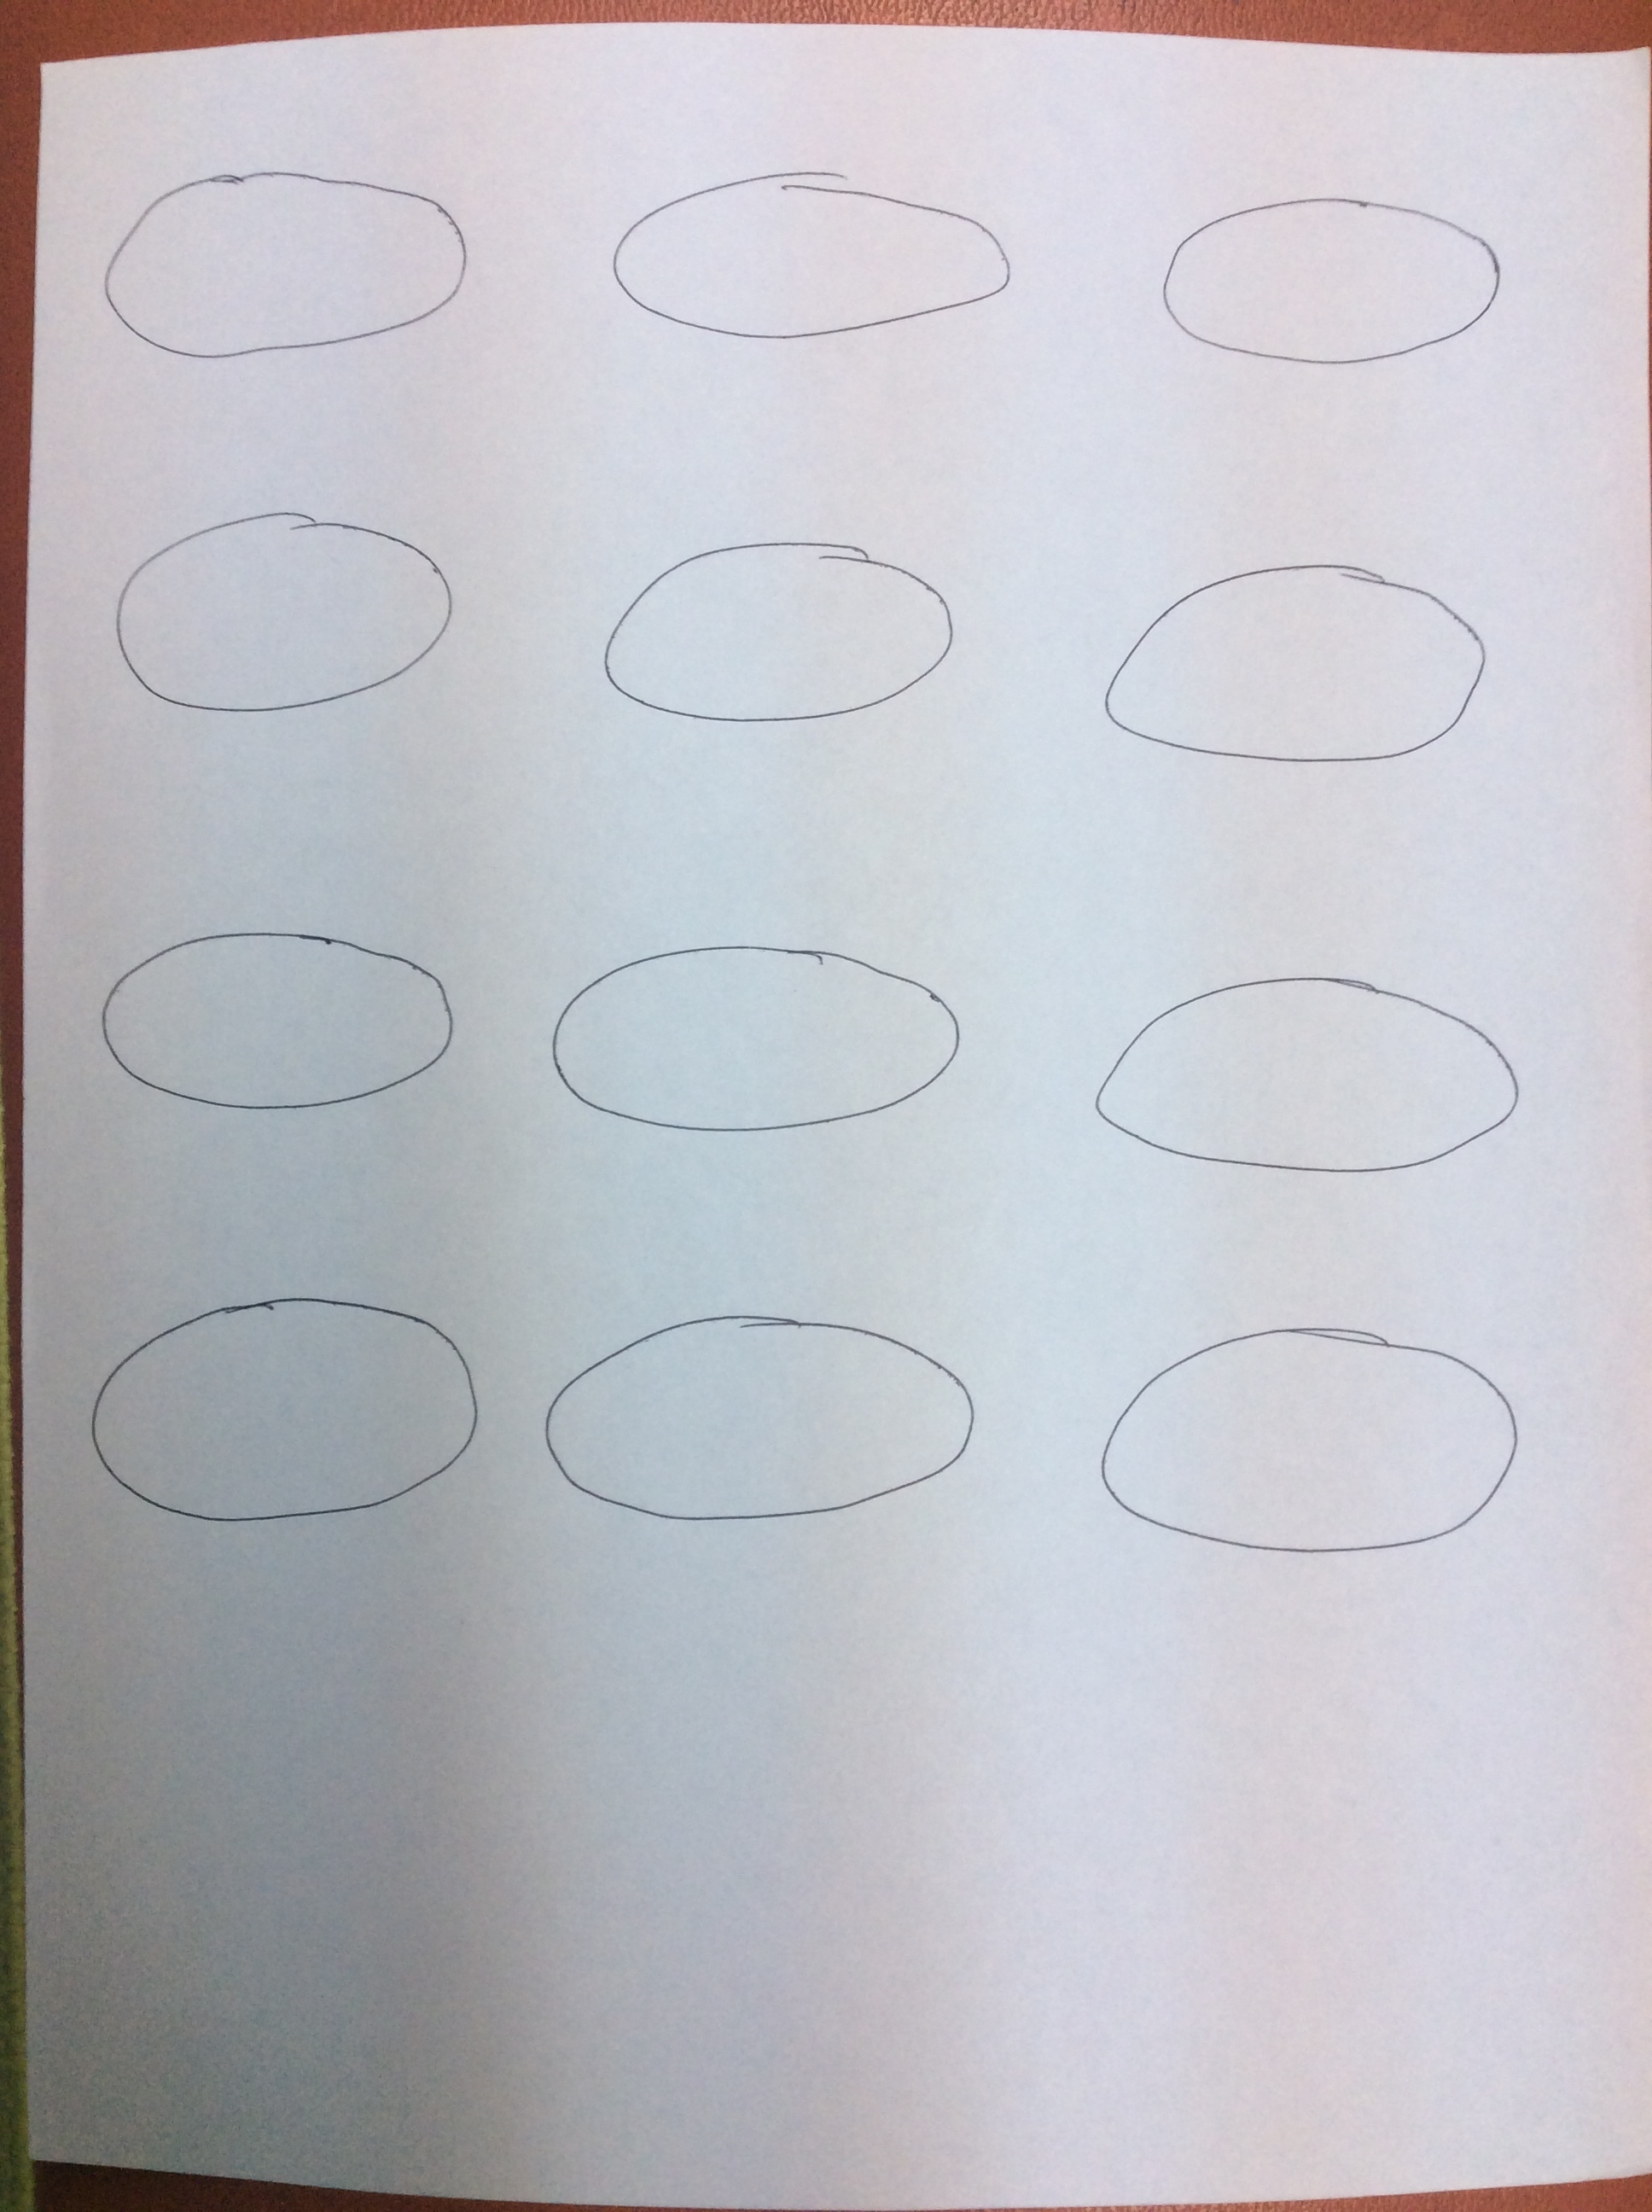start_end: (1053, 1301, 1548, 1601), (1064, 925, 1548, 1211), (62, 1260, 489, 1574), (1067, 522, 1506, 812), (514, 911, 1001, 1154), (521, 1287, 998, 1535), (571, 144, 1029, 366), (559, 515, 968, 755), (1128, 158, 1548, 389), (69, 897, 479, 1133), (90, 484, 469, 734), (90, 158, 486, 378)
